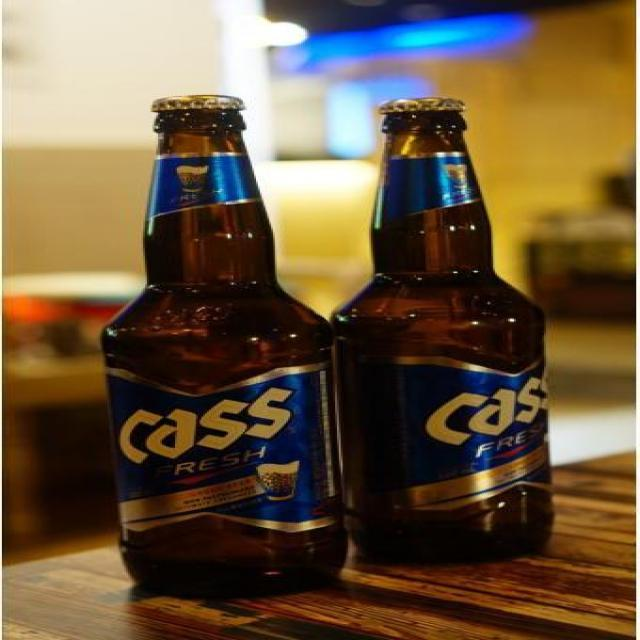beer-bottle: (112, 77, 359, 602), (332, 92, 572, 562)
